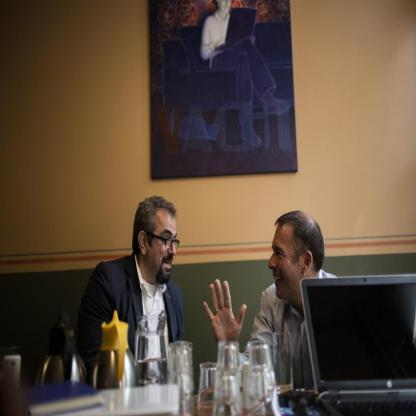board: (295, 274, 415, 416)
